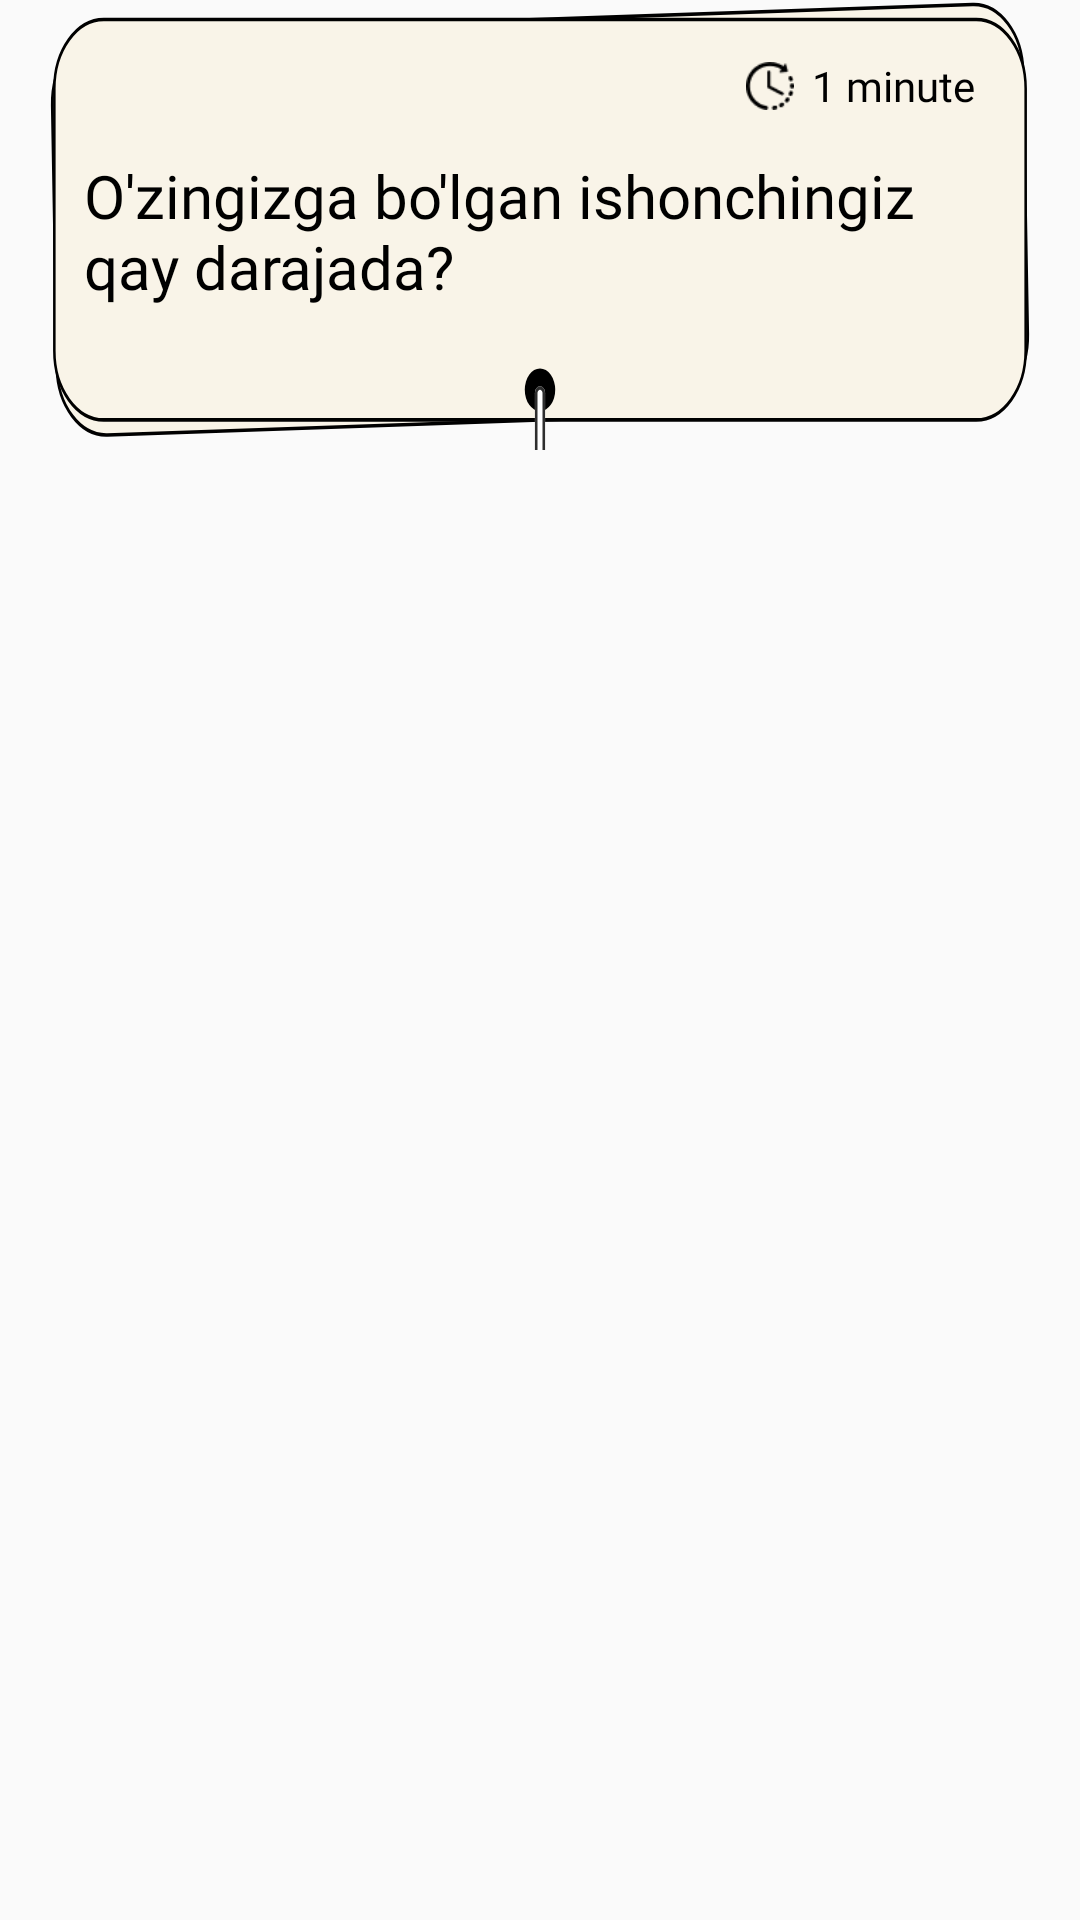

Where icons sit on this 1080*1920 app screen, as box=[x1, y1, x2, y2]:
soat: box=[746, 62, 794, 110]
